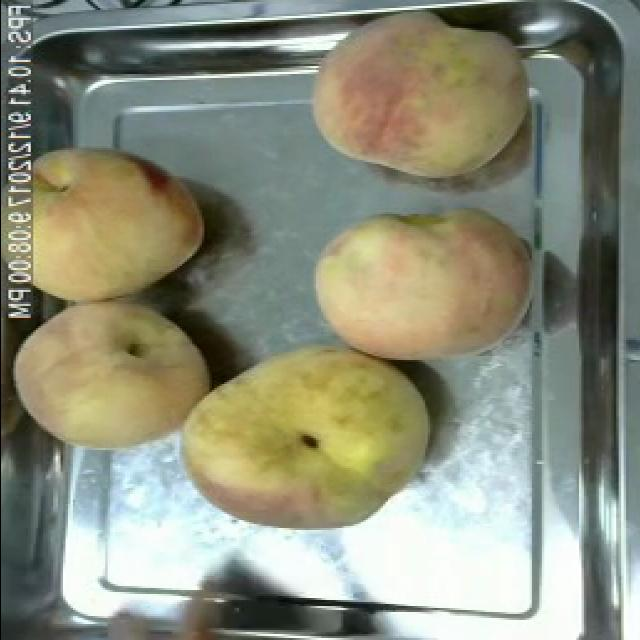Fruit: (168, 328, 436, 544), (300, 6, 538, 190), (302, 196, 538, 374), (2, 294, 220, 462), (27, 134, 211, 314)
